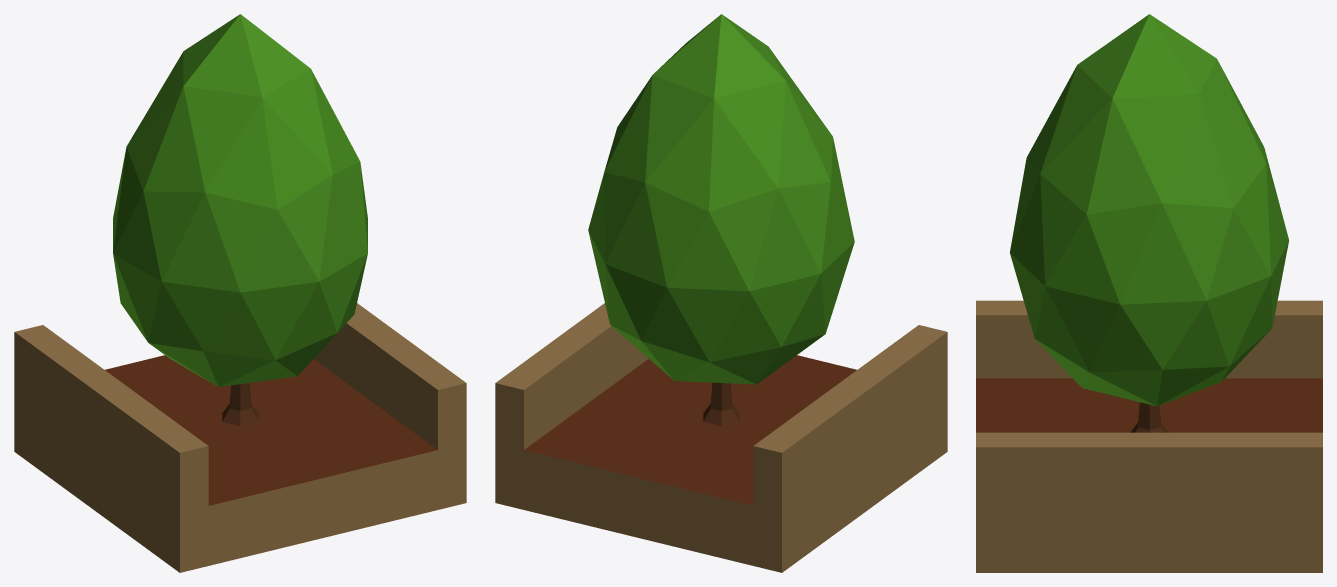
The model's file is Garden Bed Straight.fbx.
3 renders of one model, left to right at view 1: azimuth 30°, elevation 25°; view 2: azimuth 150°, elevation 25°; view 3: azimuth 270°, elevation 25°, orthographic. The views are drawn at different scales.
Parts seen in each view (by area): view 1: Garden Bed Straight; view 2: Garden Bed Straight; view 3: Garden Bed Straight.
Boxes of the visible parts, <box> form: Garden Bed Straight: <box>14,14,466,572</box>; Garden Bed Straight: <box>495,14,947,572</box>; Garden Bed Straight: <box>976,14,1322,572</box>.
Bounding box in the file's own units: 100 × 155 × 100.
